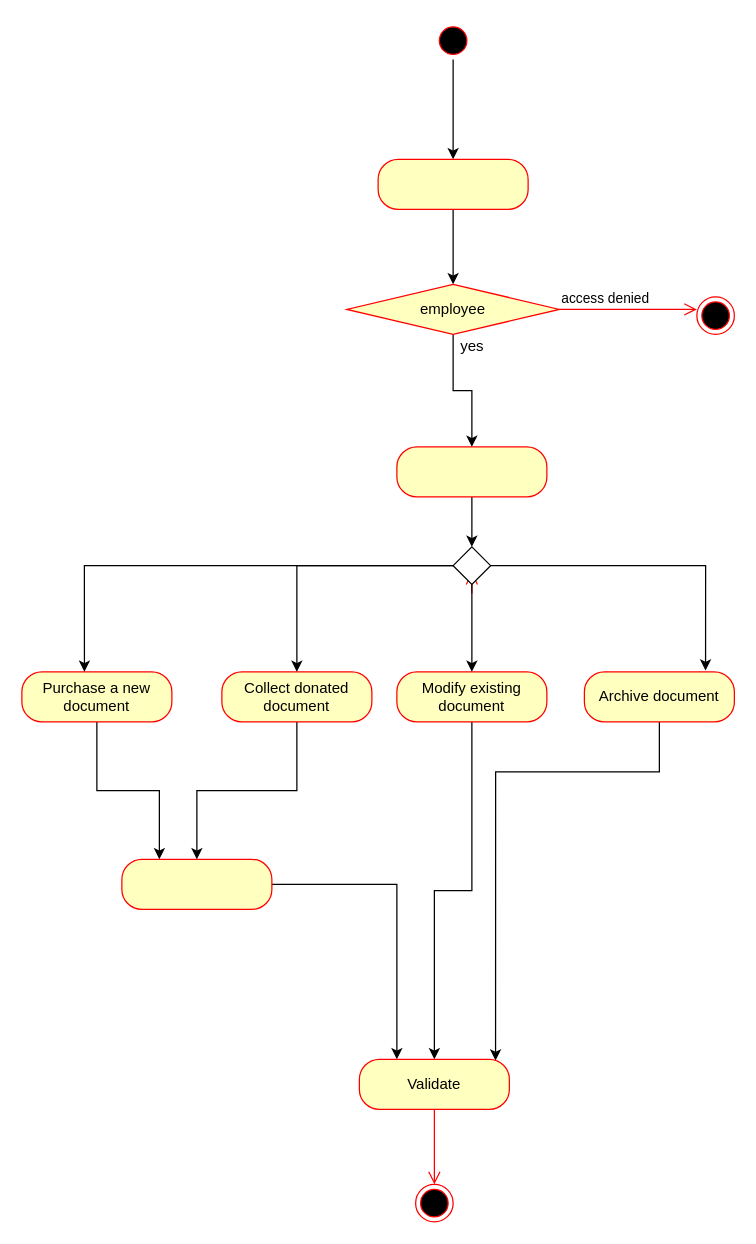
The diagram is 756 pixels wide and 1244 high, and some of its shapes have lost their labels. The shapes that lost their labels are listed below. From the top down, each one's centre as x and y in pixels, then its label:
point 452,183: Identification
point 471,471: Manage document database
point 196,883: Add new document
